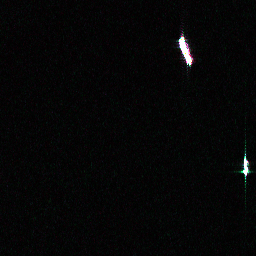ship: (176, 34, 193, 66), (242, 156, 250, 176)
